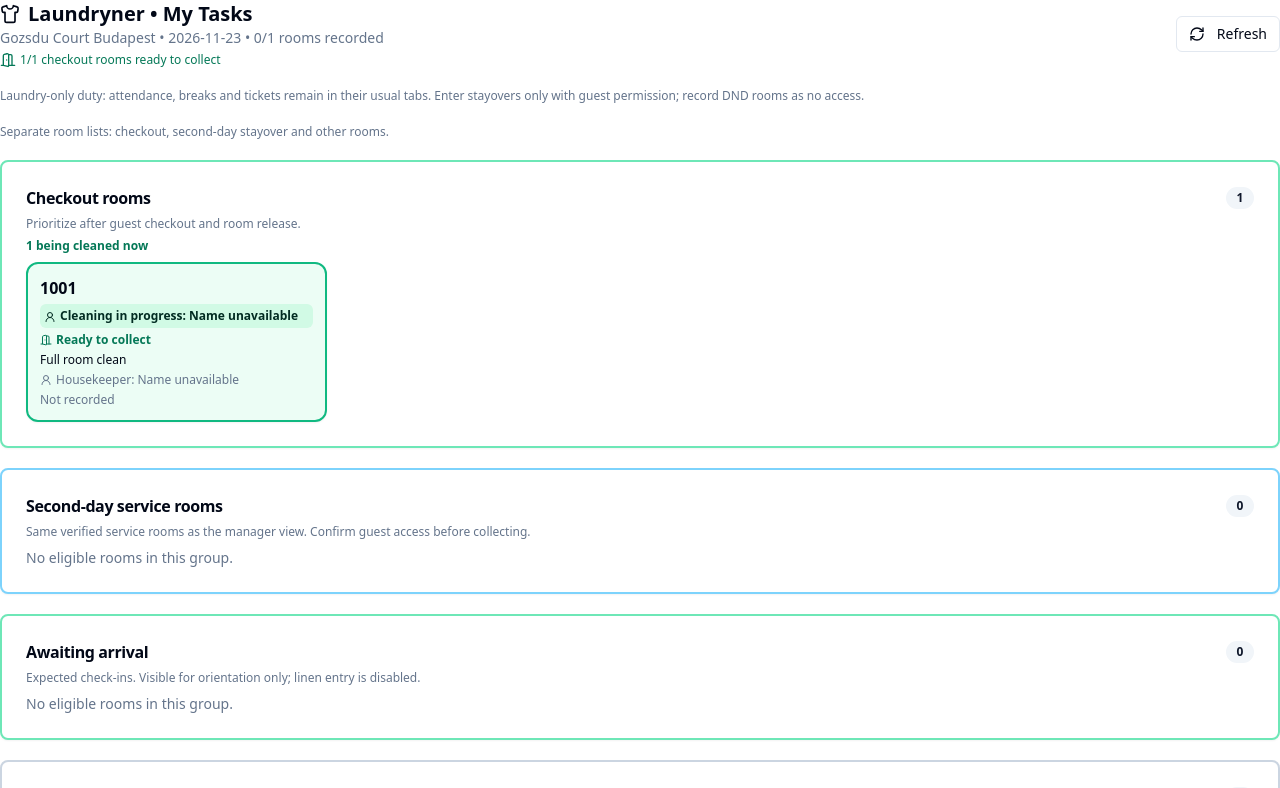
it: Gozsdu linen drafts on app return › keeps entered quantities during an offline return, blocks saving, and recovers without losing the draft
Click the button with aria-label "1001," at (58, 288), box [26, 262, 327, 422]
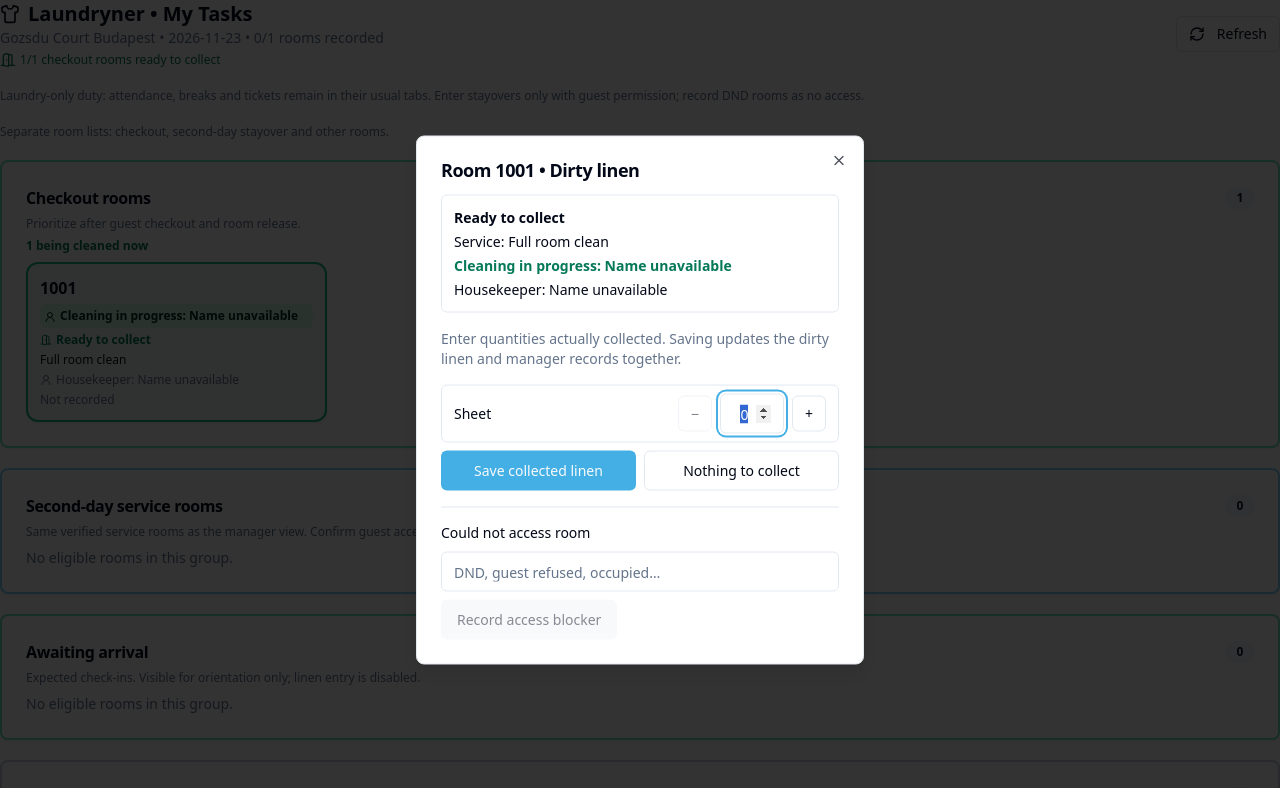
Replace the text in the number field with "3" at (752, 414), box [720, 394, 784, 434]
Wait 650 ms
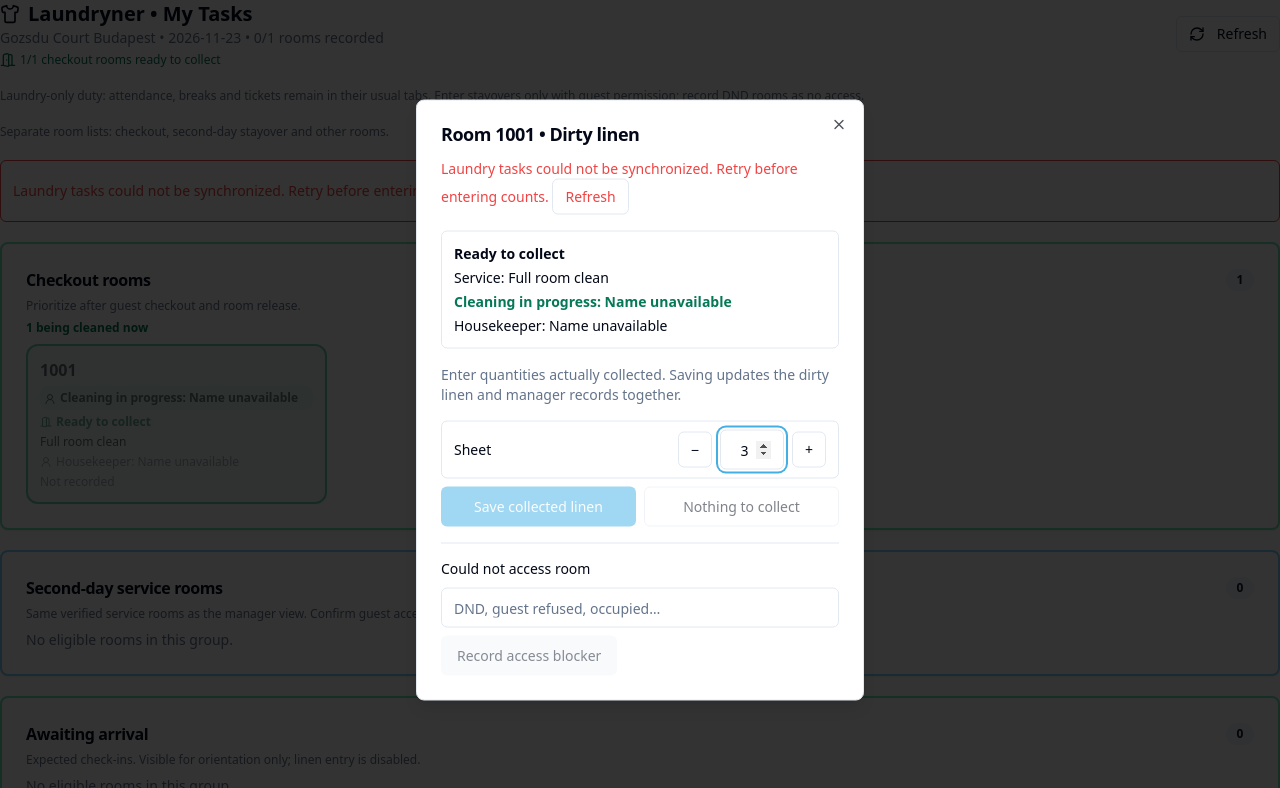
Expected: the button "Save collected linen" is disabled, [441, 486, 636, 526]
Click the button "Refresh" at (591, 196), box [552, 178, 629, 214]
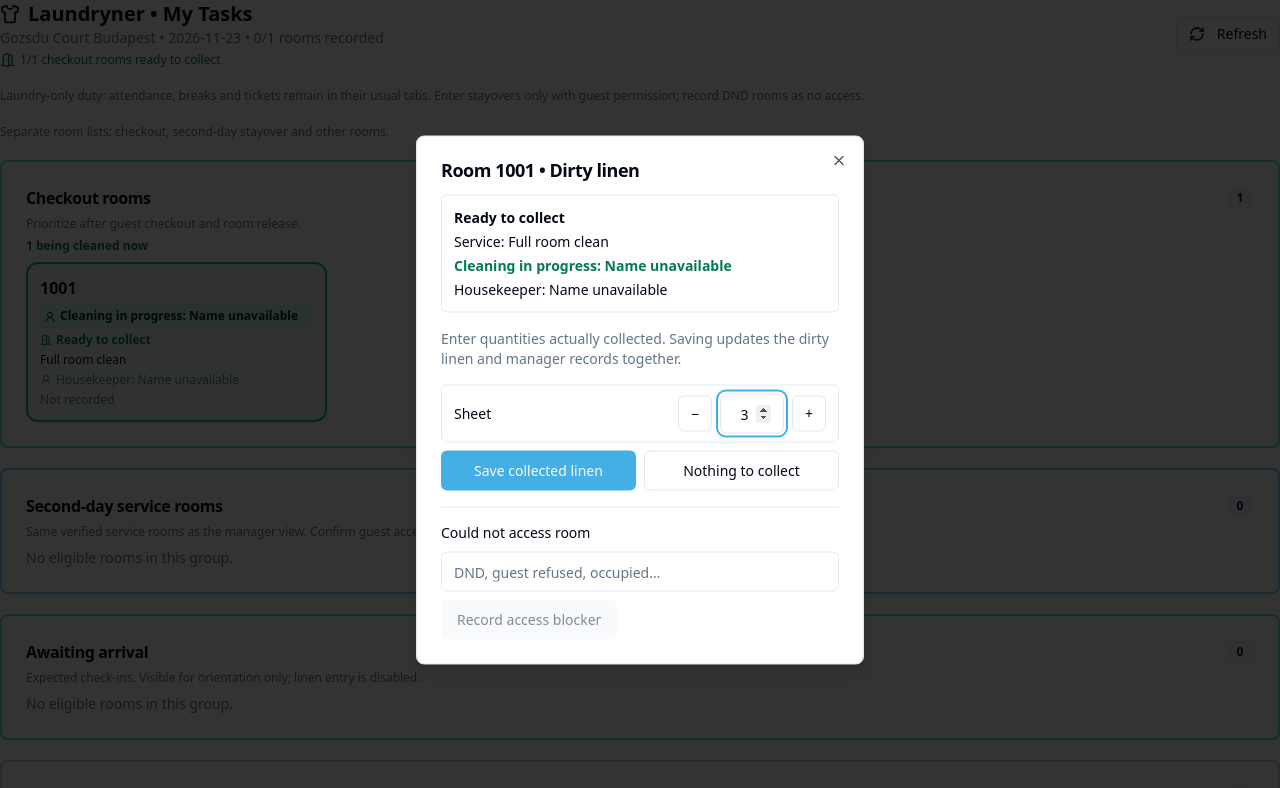
Expected: the button "Save collected linen" is enabled, [441, 450, 636, 490]
